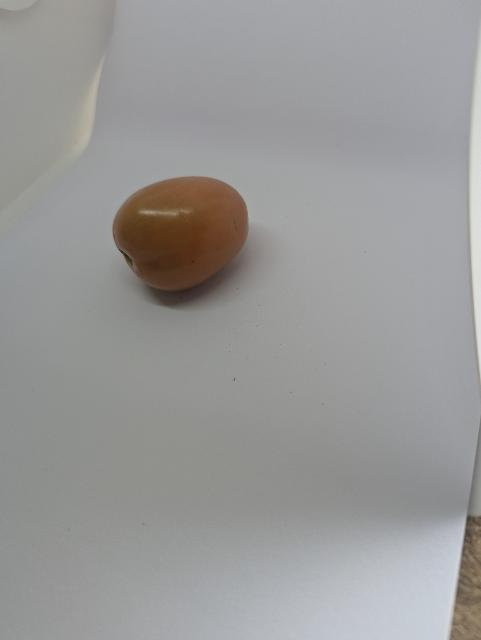turning: (108, 168, 263, 307)
